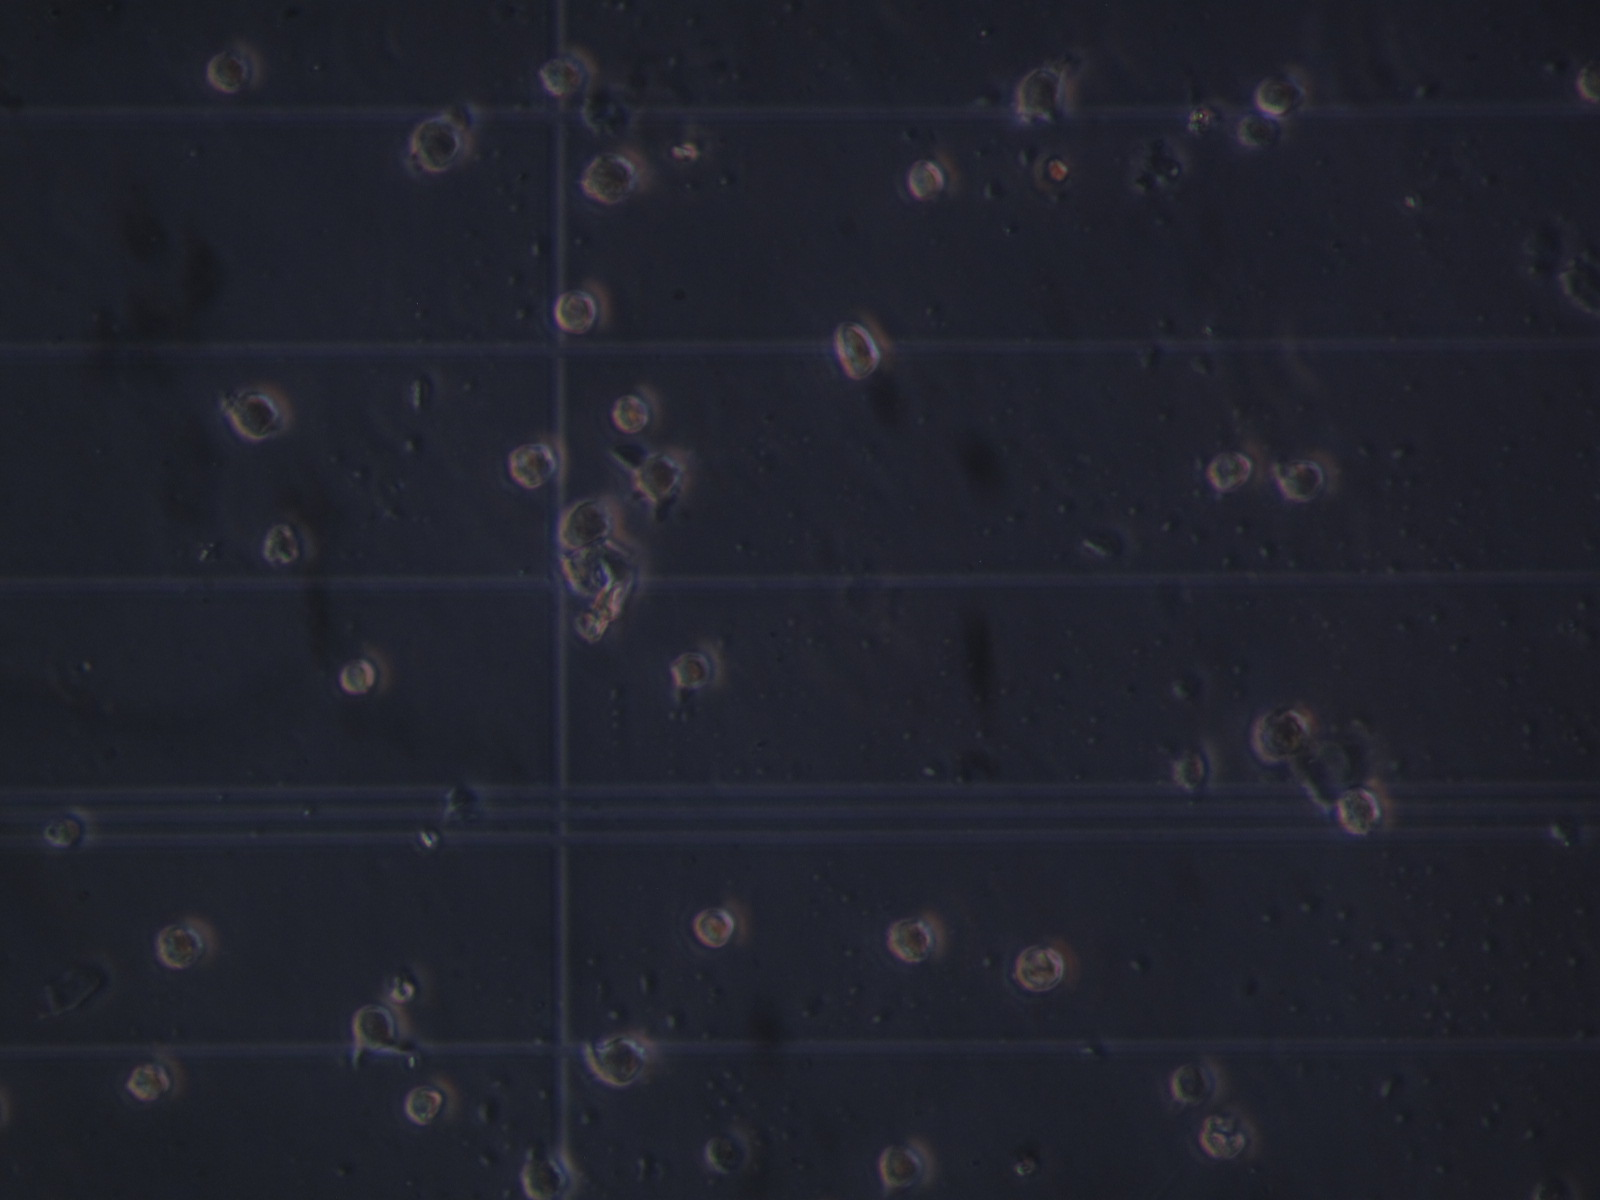hemo: (831, 310, 894, 384), (580, 142, 651, 207), (222, 382, 295, 444), (116, 1046, 185, 1109), (586, 1030, 656, 1089), (1252, 700, 1317, 764), (1010, 938, 1080, 997), (154, 911, 218, 974), (330, 639, 391, 705), (256, 512, 319, 574), (553, 279, 614, 340), (554, 495, 624, 548), (351, 996, 412, 1056), (411, 115, 472, 174), (1193, 1108, 1259, 1163), (508, 432, 568, 492), (1250, 62, 1313, 117), (1272, 453, 1338, 505), (1337, 775, 1393, 836), (401, 1071, 459, 1129), (889, 906, 946, 966), (518, 1146, 581, 1199), (666, 637, 724, 693), (905, 149, 961, 207), (610, 379, 663, 441), (1167, 1051, 1225, 1107), (879, 1134, 936, 1190), (1206, 441, 1264, 495), (637, 444, 688, 505), (205, 43, 263, 95), (692, 897, 750, 949), (1014, 66, 1070, 118), (582, 81, 632, 139), (559, 546, 615, 597), (703, 1122, 755, 1176), (44, 805, 94, 856), (538, 52, 591, 100), (1235, 108, 1289, 155)
